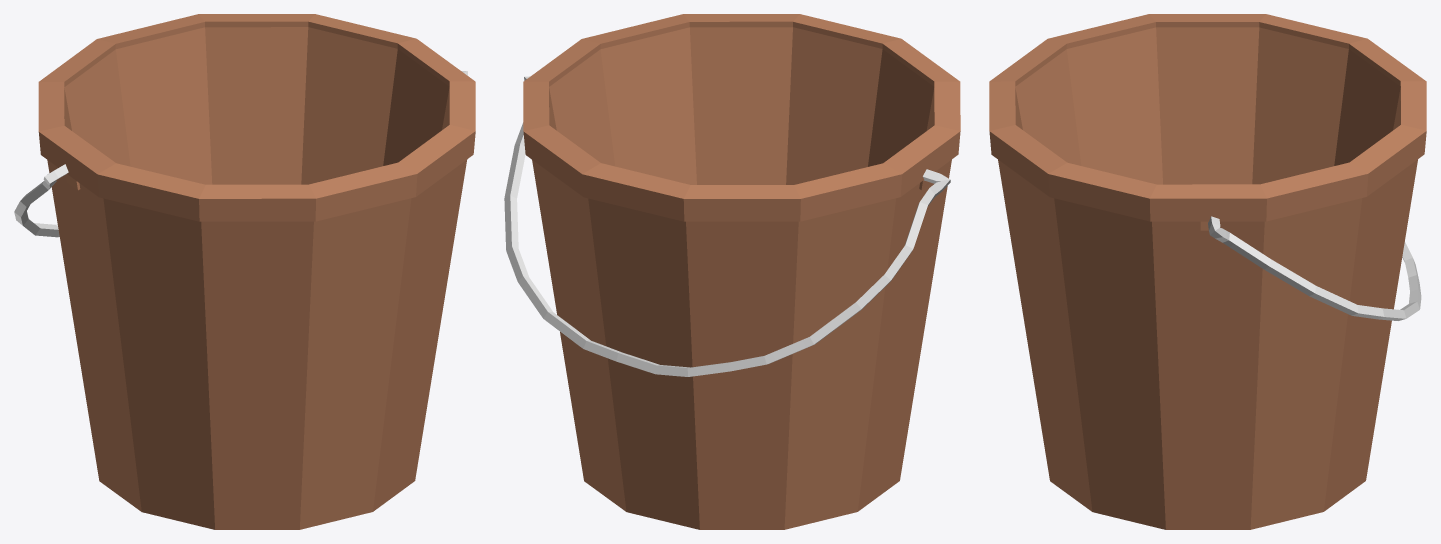
File: bucket.fbx
The picture shows the model from 3 angles, left to right: view 1: azimuth 30°, elevation 25°; view 2: azimuth 150°, elevation 25°; view 3: azimuth 270°, elevation 25°; orthographic projection.
Visible parts, largest first — view 1: bucket, handle; view 2: bucket, handle; view 3: bucket, handle.
Part boxes in pixels (box(x1,y1,x2,y2)): bucket: box(38, 14, 475, 529); handle: box(14, 71, 467, 237); bucket: box(523, 14, 960, 529); handle: box(504, 76, 950, 376); bucket: box(989, 14, 1426, 529); handle: box(1208, 216, 1421, 320).
Bounding box in the file's own units: 43.09 × 34.88 × 38.39.
